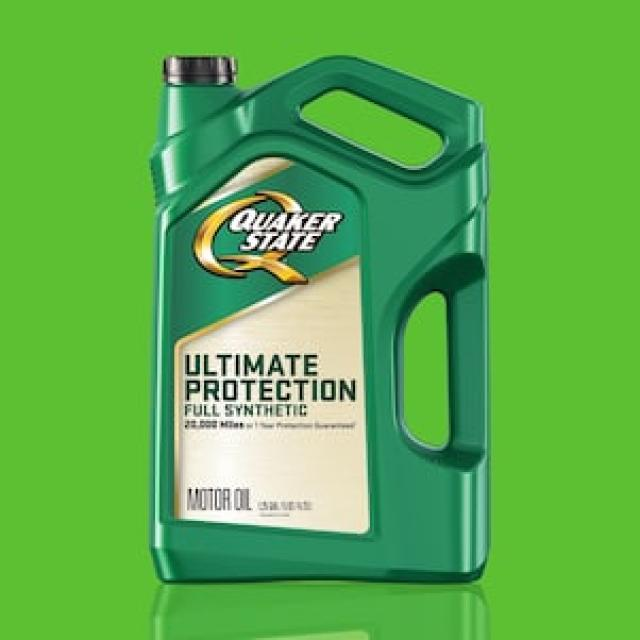motor_oil: (159, 45, 498, 593)
